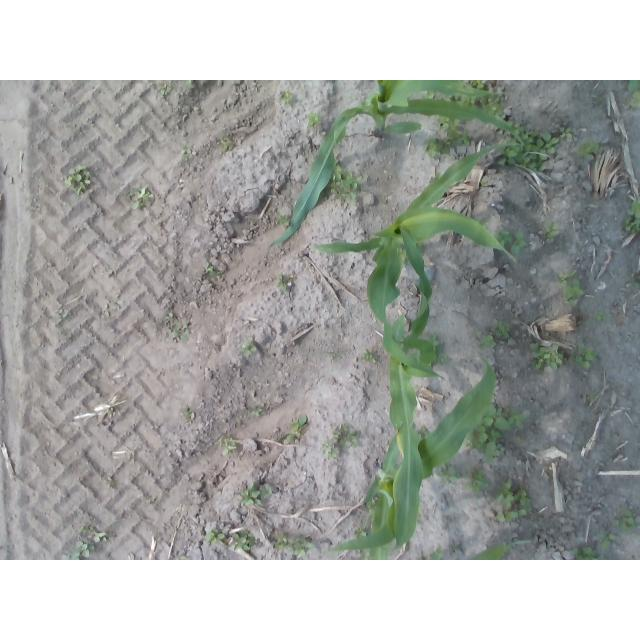Maize: (314, 148, 519, 375), (268, 81, 524, 244), (360, 356, 496, 560), (389, 223, 435, 554), (378, 537, 529, 560)
Weeds: (466, 405, 528, 462), (497, 123, 559, 174), (323, 160, 361, 205), (495, 479, 532, 521), (437, 114, 472, 147), (530, 341, 566, 372), (556, 270, 584, 307), (63, 163, 93, 195), (274, 535, 314, 558), (492, 228, 526, 253), (570, 343, 599, 370), (240, 483, 273, 506), (125, 185, 153, 211), (281, 413, 307, 441), (366, 475, 381, 521), (428, 333, 448, 367), (333, 423, 359, 449), (440, 92, 477, 109), (465, 466, 488, 493), (623, 198, 640, 234), (613, 508, 637, 532), (65, 540, 93, 560), (436, 461, 461, 483), (478, 95, 503, 117), (471, 330, 497, 350), (423, 138, 450, 157), (78, 525, 106, 543), (573, 545, 606, 560), (577, 139, 599, 159), (233, 531, 256, 549), (493, 318, 511, 340), (171, 322, 190, 342), (627, 80, 640, 108), (217, 437, 237, 455), (321, 441, 340, 459), (542, 220, 560, 239), (598, 534, 618, 551), (205, 528, 224, 545), (238, 341, 257, 356), (204, 262, 220, 279), (306, 110, 322, 127), (359, 349, 377, 364), (415, 423, 429, 441), (275, 212, 290, 226), (279, 90, 293, 105), (156, 84, 172, 97), (275, 274, 287, 291), (354, 524, 368, 538), (560, 126, 574, 139), (459, 81, 485, 88), (50, 313, 67, 323), (180, 405, 192, 419), (221, 137, 232, 152), (429, 173, 443, 184), (181, 146, 192, 160), (359, 548, 370, 561), (422, 89, 435, 100), (249, 406, 263, 416), (416, 240, 427, 252), (594, 311, 606, 322), (632, 272, 640, 288), (474, 217, 486, 227), (105, 476, 115, 485), (588, 394, 597, 403), (450, 544, 459, 552), (166, 312, 175, 320), (481, 178, 488, 186), (184, 80, 195, 85), (333, 352, 339, 359)
